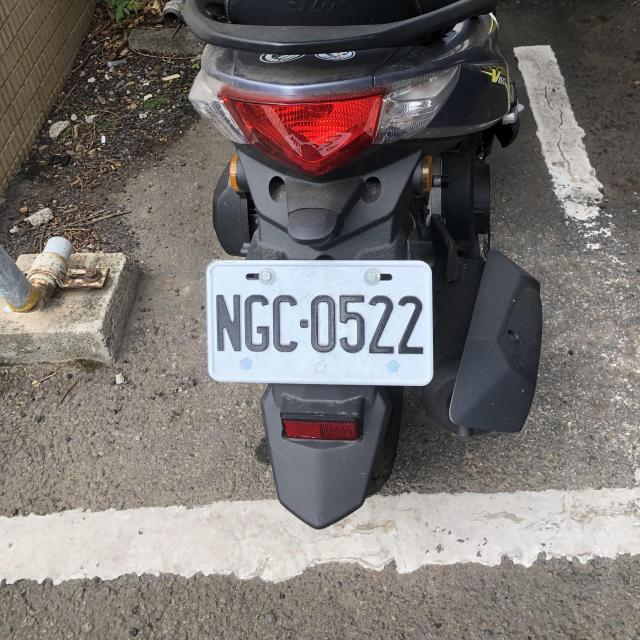W: (204, 258, 431, 385)
